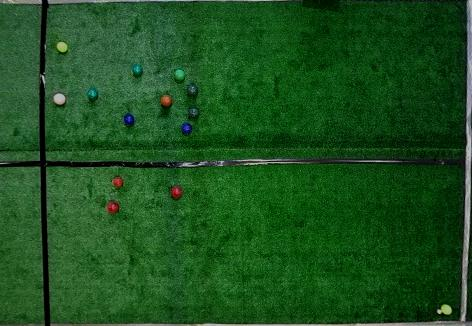blue: (181, 123, 193, 134), (124, 115, 135, 125)
green: (174, 69, 185, 81), (188, 107, 200, 117), (188, 85, 198, 96), (88, 89, 98, 100), (133, 65, 143, 75)
red: (53, 93, 66, 105), (171, 186, 183, 199), (161, 95, 172, 107), (107, 202, 119, 213), (113, 177, 124, 187)
vline: (1, 1, 52, 325), (458, 1, 471, 325)
white: (437, 309, 442, 314)
yellow: (440, 304, 453, 315), (56, 42, 68, 53)
